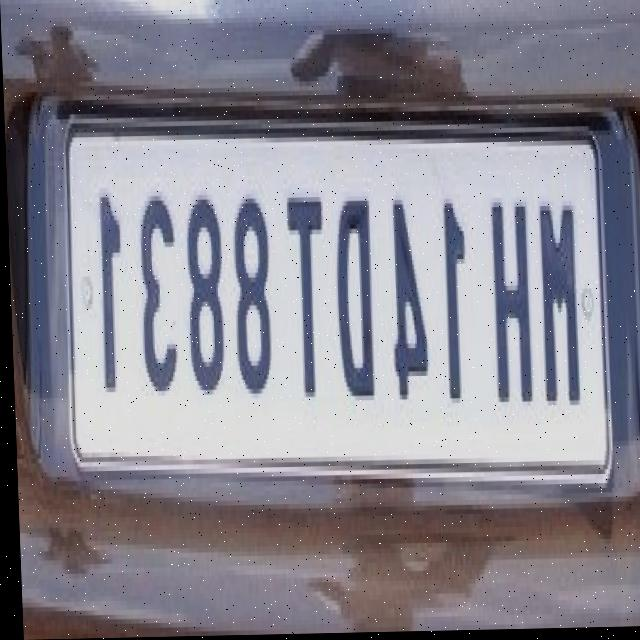plate: (64, 116, 607, 475)
